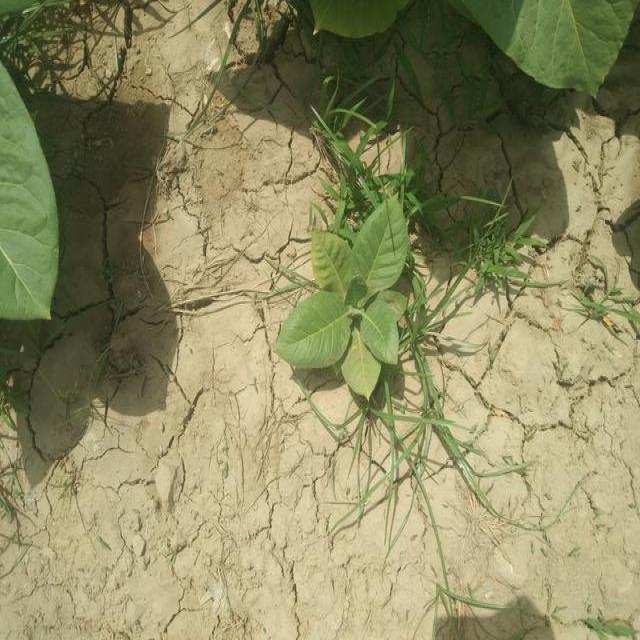crop: (278, 184, 416, 410), (466, 0, 629, 98), (1, 63, 54, 321), (306, 0, 408, 47)
